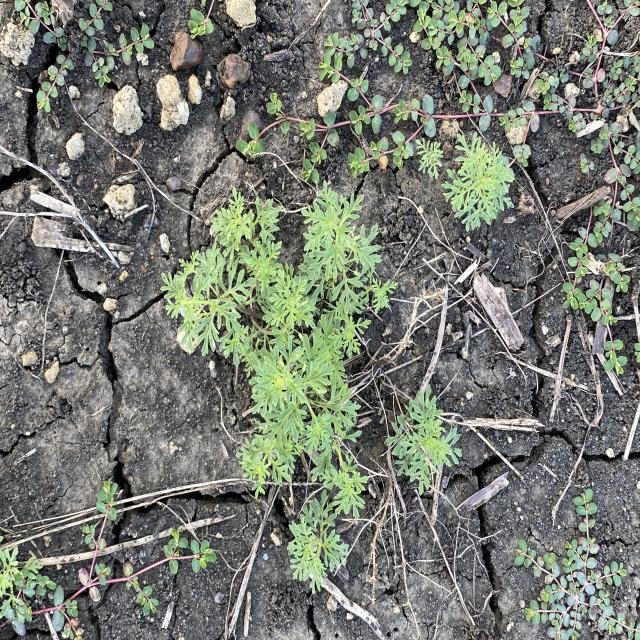Ragweed: (158, 185, 402, 594), (380, 384, 465, 500), (441, 123, 517, 234)
SpottedSpurge: (222, 0, 638, 375), (1, 474, 218, 638), (511, 485, 637, 636), (12, 1, 156, 116)
